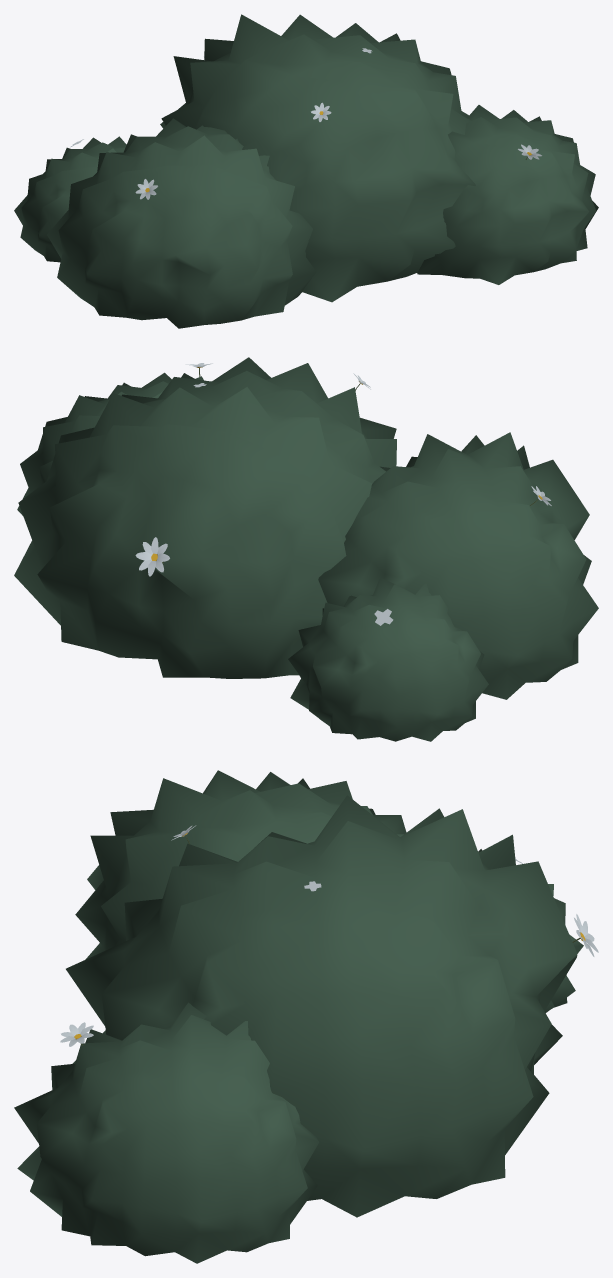
The model's file is P_Bush_04_LD.fbx.
3 renders of one model, top to bottom at view 1: azimuth 30°, elevation 25°; view 2: azimuth 150°, elevation 25°; view 3: azimuth 270°, elevation 25°, orthographic. The views are drawn at different scales.
Parts seen in each view (by area): view 1: P_bush_04; view 2: P_bush_04; view 3: P_bush_04.
Boxes of the visible parts, x1,y1,x2,y2 form: P_bush_04: (14,14,598,328); P_bush_04: (14,357,598,741); P_bush_04: (14,770,598,1263).
Bounding box in the file's own units: 346 × 132 × 244.
